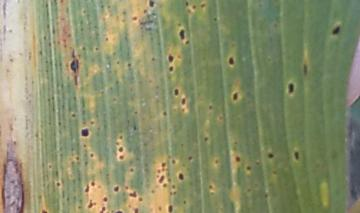tarspot: (70, 48, 79, 86), (81, 127, 90, 136), (232, 91, 239, 102), (288, 82, 294, 94), (332, 25, 340, 34), (303, 62, 308, 76), (88, 200, 96, 208), (167, 204, 174, 213), (179, 30, 185, 40), (294, 151, 300, 161), (228, 57, 235, 65), (234, 155, 241, 162), (129, 191, 137, 197), (85, 183, 90, 192), (178, 173, 184, 180), (113, 185, 119, 192), (100, 206, 106, 213), (272, 169, 278, 176), (114, 77, 120, 84), (168, 54, 173, 62), (181, 97, 186, 105), (114, 209, 124, 213), (149, 1, 155, 7), (268, 152, 274, 158), (89, 152, 95, 158), (132, 15, 138, 21), (200, 2, 206, 8), (160, 166, 166, 172), (143, 7, 149, 13), (118, 146, 123, 153), (159, 175, 164, 182), (41, 208, 48, 213), (129, 166, 134, 173), (151, 55, 156, 62), (170, 191, 177, 196), (41, 35, 48, 40), (175, 88, 179, 96), (119, 154, 124, 160), (187, 156, 193, 161), (172, 159, 177, 165), (203, 136, 208, 142), (208, 104, 213, 110), (162, 182, 167, 188), (134, 207, 139, 213), (138, 196, 143, 202), (185, 39, 190, 45), (185, 1, 190, 7), (191, 4, 196, 10), (213, 17, 219, 22), (150, 189, 156, 194), (47, 163, 52, 169), (82, 143, 88, 148), (38, 49, 43, 55), (48, 41, 53, 47), (89, 120, 95, 125), (161, 162, 166, 167), (56, 182, 61, 187), (162, 111, 167, 116), (127, 63, 132, 68), (171, 184, 176, 189), (75, 155, 80, 160), (81, 45, 86, 50), (124, 185, 129, 190), (119, 135, 124, 140), (133, 110, 138, 115), (156, 168, 161, 173), (84, 161, 89, 166), (58, 120, 63, 125), (246, 166, 252, 170), (91, 181, 95, 187), (72, 112, 76, 118), (183, 199, 187, 205), (158, 205, 162, 211), (133, 125, 137, 131), (46, 23, 50, 29), (170, 66, 174, 71), (105, 36, 109, 41), (77, 205, 82, 209), (122, 11, 127, 15), (53, 28, 56, 34), (209, 185, 213, 189), (95, 47, 99, 51), (215, 160, 219, 164), (265, 193, 268, 198), (168, 177, 171, 182), (104, 197, 107, 201)
